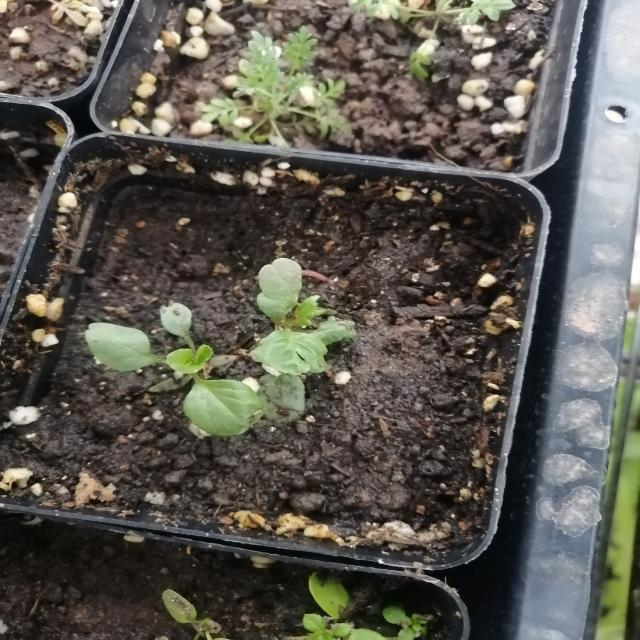pigweed: (99, 314, 289, 431), (212, 257, 366, 386)
